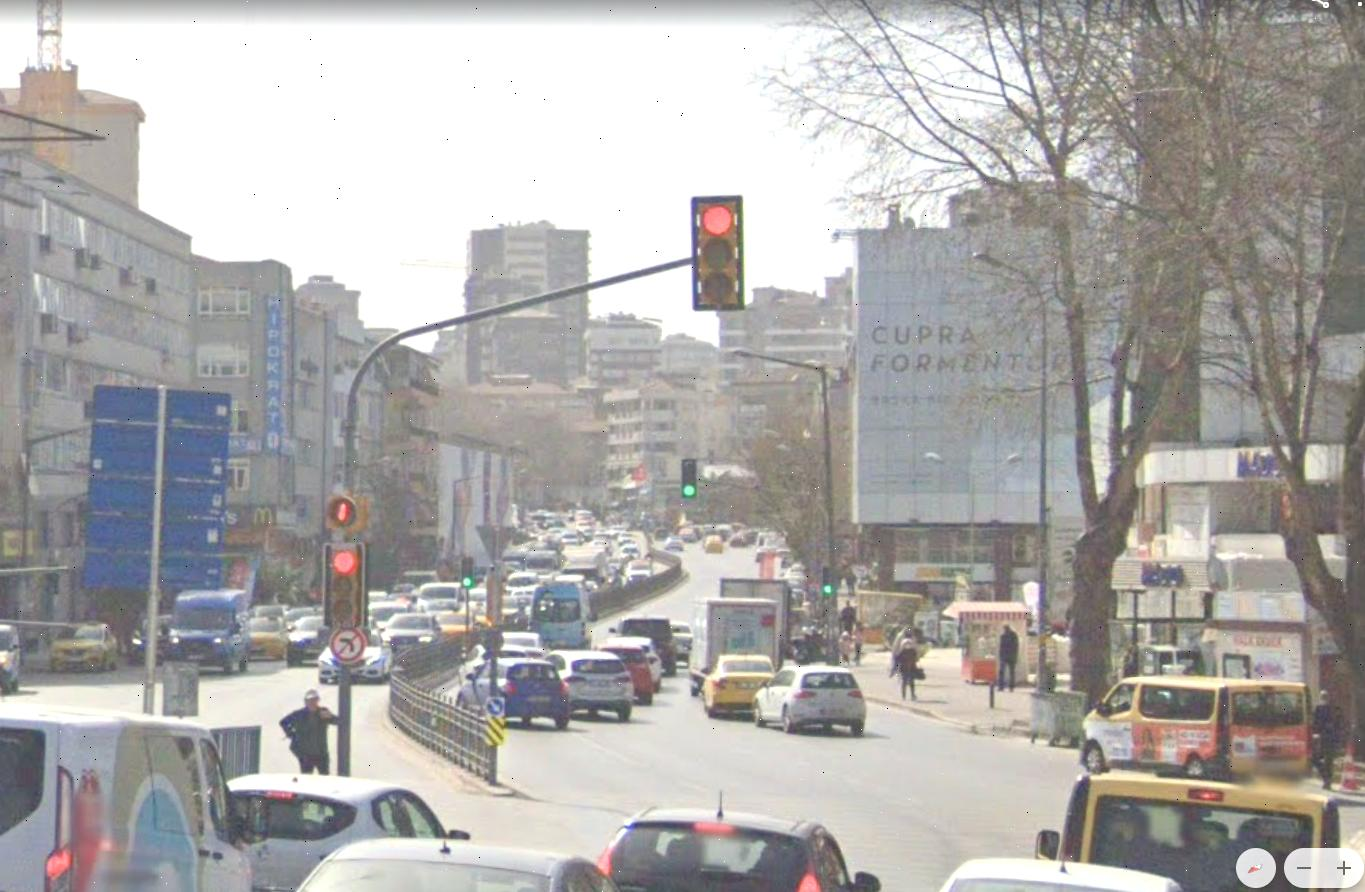greenlight: (684, 460, 699, 498), (459, 554, 474, 587), (823, 567, 835, 597)
leftturnsareforbidden: (331, 634, 360, 666)
redlight: (691, 196, 743, 313), (320, 540, 362, 629)
